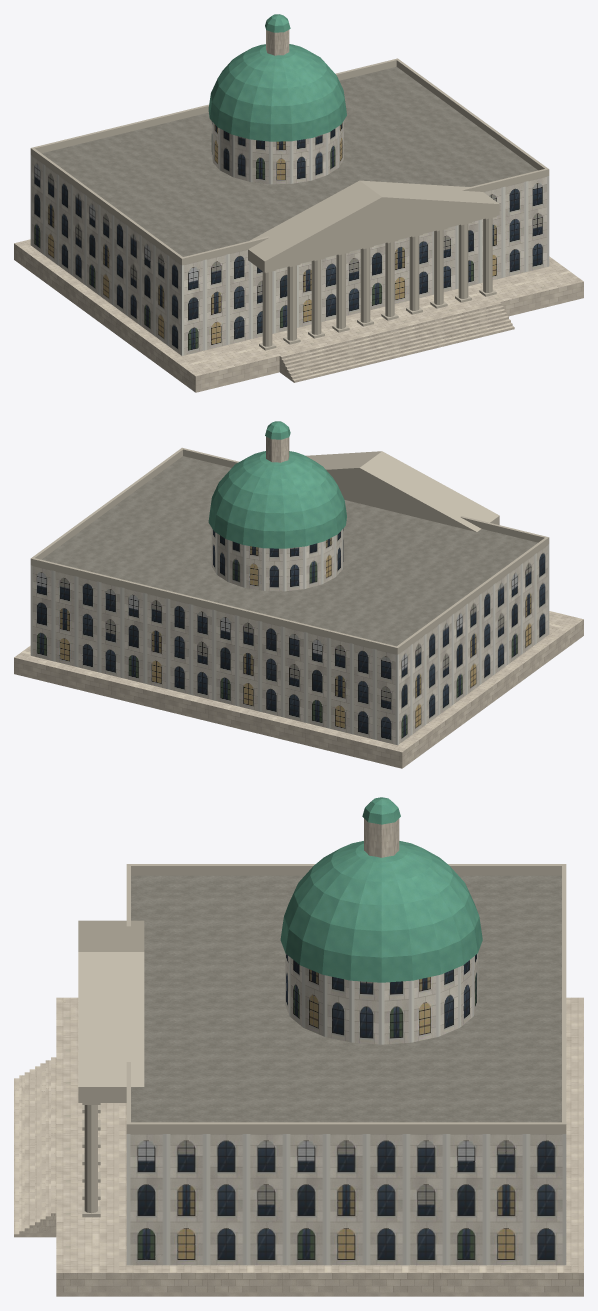
Rendered from 074_courthouse.glb.
3 views of the same model, one above another, from view 1: azimuth 30°, elevation 25°; view 2: azimuth 150°, elevation 25°; view 3: azimuth 270°, elevation 25° (orthographic). The views are drawn at different scales.
Parts seen in each view (by area): view 1: 074_courthouse; view 2: 074_courthouse; view 3: 074_courthouse.
Part boxes in pixels (<box>): 074_courthouse: <box>14,14,583,392</box>; 074_courthouse: <box>14,421,583,768</box>; 074_courthouse: <box>14,797,583,1296</box>.
Size of the model in its own units: 74 by 45.2 by 64.8.
5 materials, 4 textured.
